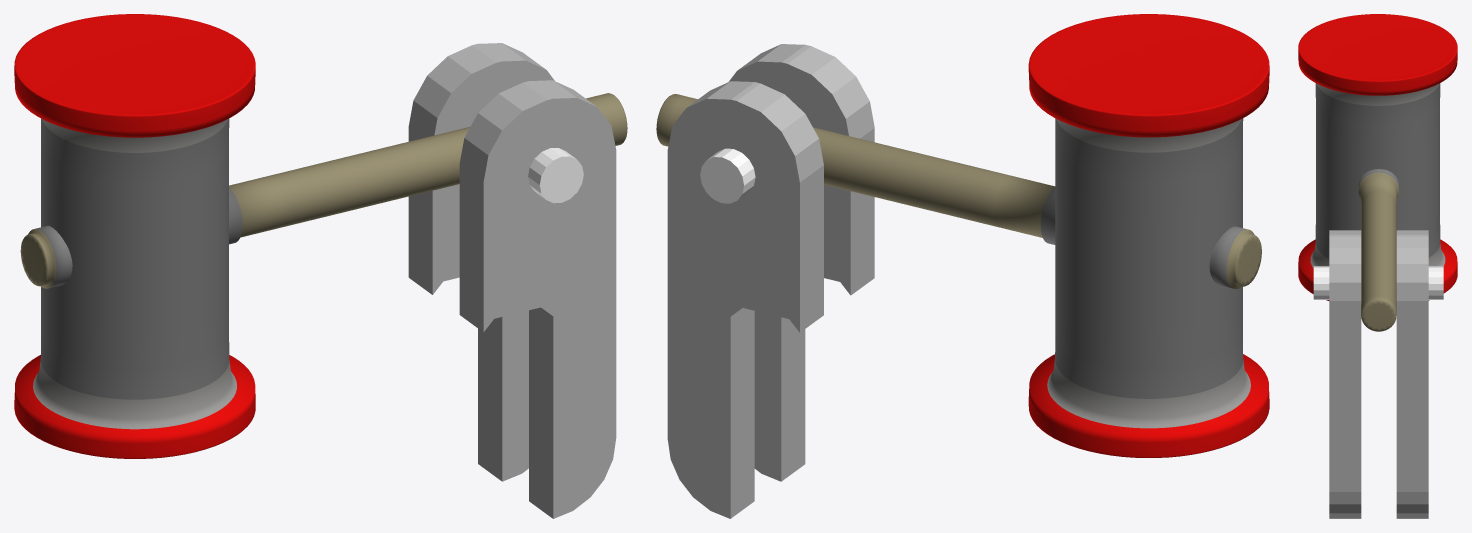
Rendered from Hammer.fbx.
The picture shows the model from 3 angles, left to right: view 1: azimuth 30°, elevation 25°; view 2: azimuth 150°, elevation 25°; view 3: azimuth 270°, elevation 25°; orthographic projection. The views are drawn at different scales.
Visible parts, largest first — view 1: Cylinder, Cylinder.015; view 2: Cylinder, Cylinder.015; view 3: Cylinder, Cylinder.015.
Part boxes in pixels (<box>): Cylinder: <box>14,14,627,458</box>; Cylinder.015: <box>408,43,616,518</box>; Cylinder: <box>656,14,1269,457</box>; Cylinder.015: <box>667,44,874,518</box>; Cylinder: <box>1298,14,1457,331</box>; Cylinder.015: <box>1313,230,1443,518</box>.
Size of the model in its own units: 6.96 by 5.92 by 2.49.
